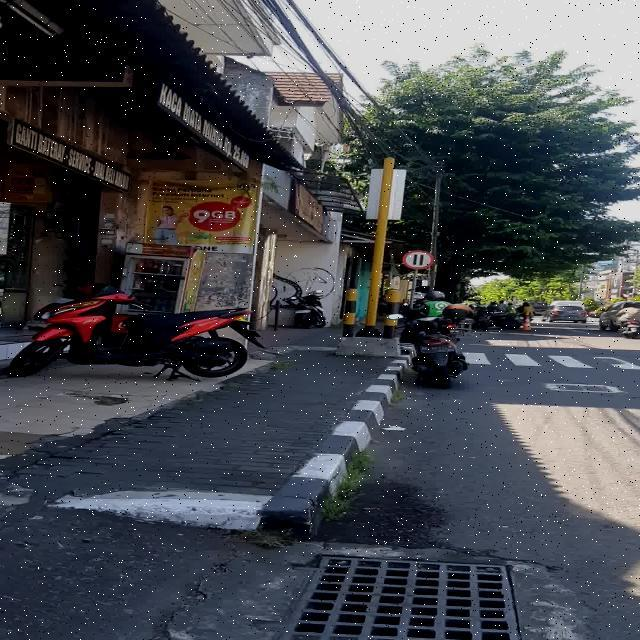Larangan Muatan - 10 ton: (402, 250, 433, 270)
